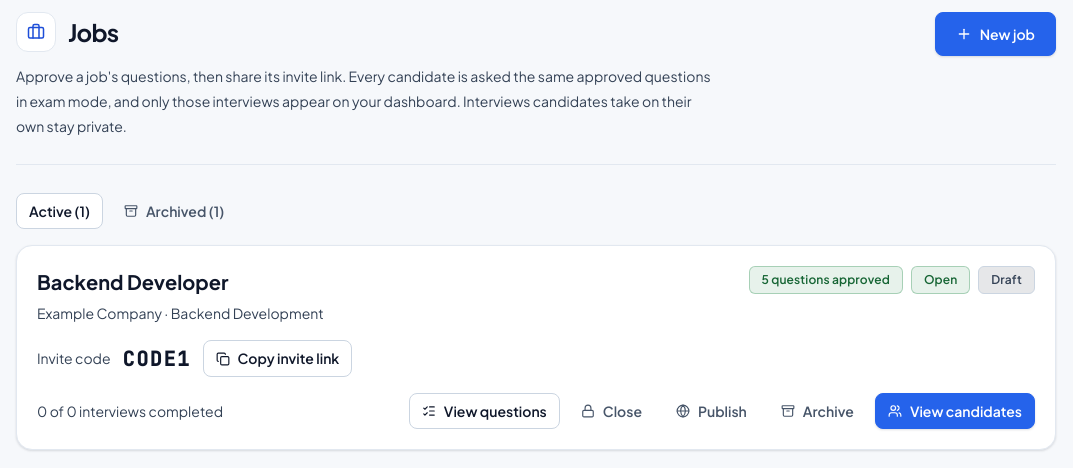
archived jobs can be listed on their own and brought back
Click the button "Archived (1)" at (174, 211), box [111,193,237,229]
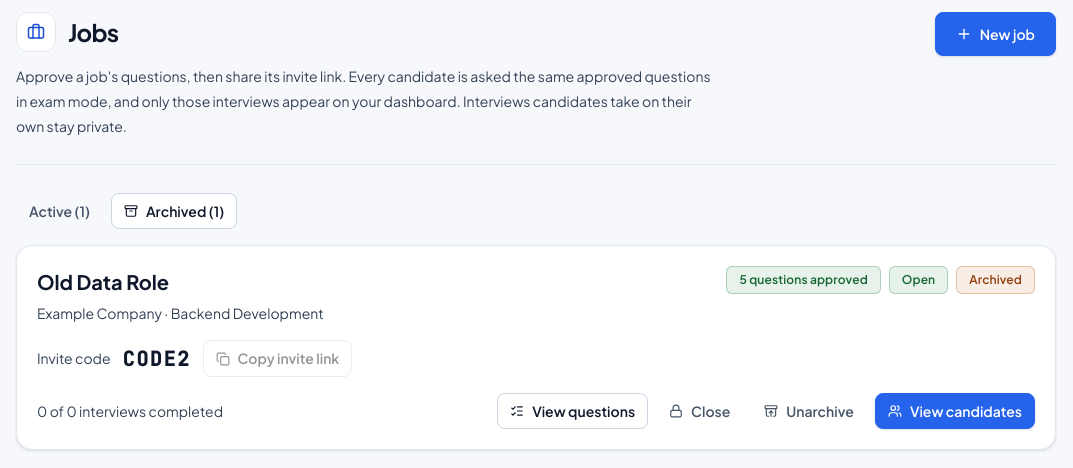
Expected: the button "Unarchive" is shown, [751,393,867,429]
